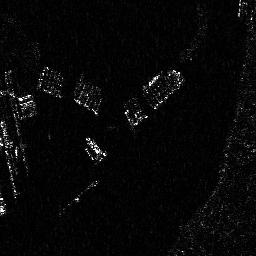ship: (82, 136, 109, 161)
